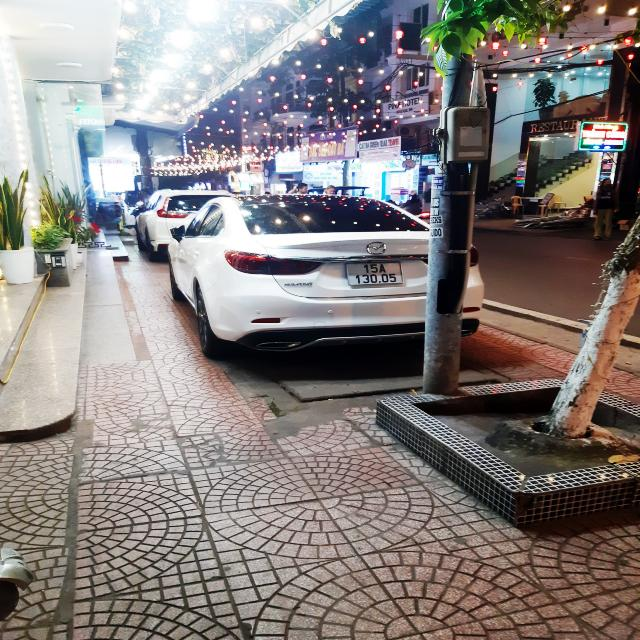license_plate: (343, 261, 409, 288)
